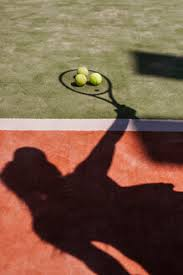tennis_ball: (74, 73, 87, 87), (90, 72, 102, 85), (76, 65, 89, 76)
